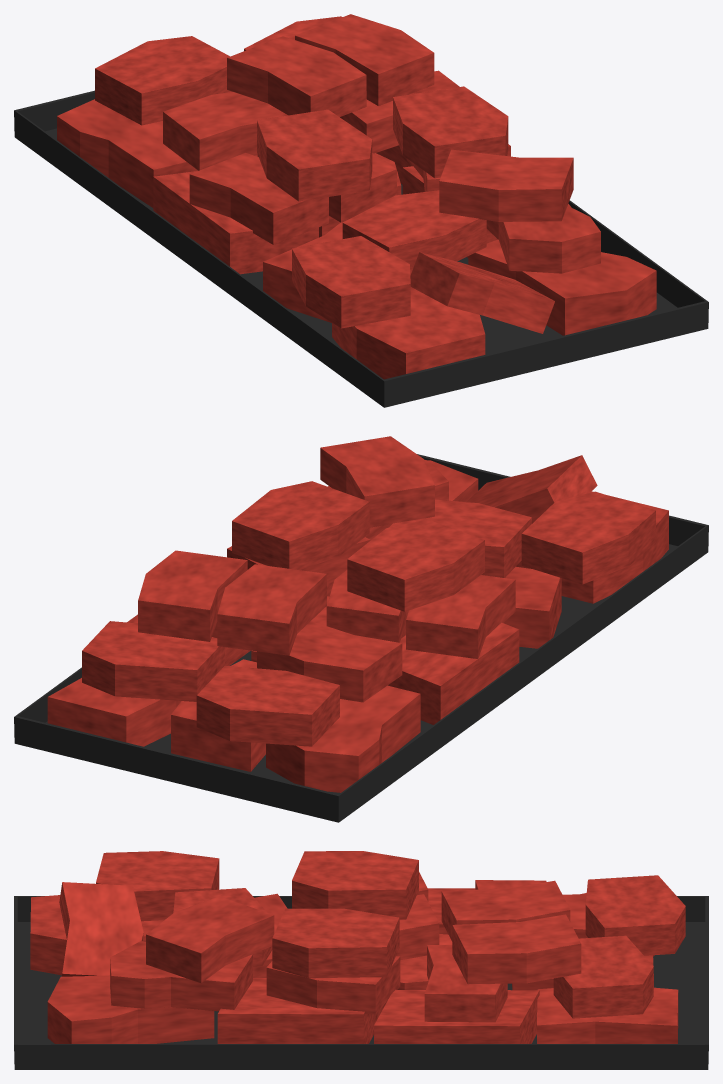
File: tray of betamax.fbx
The picture shows the model from 3 angles, top to bottom: view 1: azimuth 30°, elevation 25°; view 2: azimuth 150°, elevation 25°; view 3: azimuth 270°, elevation 25°; orthographic projection. The views are drawn at different scales.
Parts seen in each view (by area): view 1: tray.001, betamax 3.008, betamax 3.010, betamax 2.013, betamax 3.004, betamax 1.003, betamax 2.012, betamax 3.003, betamax 3.009, betamax 1.002, betamax 2.010, betamax 3.007 (+10 smaller); view 2: tray.001, betamax 3.004, betamax 3.010, betamax 3.009, betamax 3.008, betamax 1.002, betamax 3.006, betamax 2.012, betamax 2.013, betamax 2.011, betamax 2.006, betamax 4.004 (+11 smaller); view 3: tray.001, betamax 3.009, betamax 1.003, betamax 2.011, betamax 2.013, betamax 3.010, betamax 4.003, betamax 3.004, betamax 2.009, betamax 3.006, betamax 1.004, betamax 4.002 (+14 smaller).
Boxes of the visible parts, bbox=[...] form: tray.001: bbox=[14, 90, 708, 407]; betamax 3.008: bbox=[292, 236, 410, 328]; betamax 3.010: bbox=[257, 109, 372, 201]; betamax 2.013: bbox=[439, 149, 573, 221]; betamax 3.004: bbox=[95, 36, 232, 125]; betamax 1.003: bbox=[468, 239, 656, 335]; betamax 2.012: bbox=[227, 36, 366, 117]; betamax 3.003: bbox=[332, 287, 485, 379]; betamax 3.009: bbox=[393, 86, 508, 178]; betamax 1.002: bbox=[57, 99, 198, 207]; betamax 2.010: bbox=[189, 153, 328, 244]; betamax 3.007: bbox=[342, 190, 486, 274]; tray.001: bbox=[14, 454, 708, 822]; betamax 3.004: bbox=[196, 665, 339, 746]; betamax 3.010: bbox=[347, 519, 484, 611]; betamax 3.009: bbox=[232, 481, 369, 569]; betamax 3.008: bbox=[521, 491, 655, 584]; betamax 1.002: bbox=[266, 685, 420, 792]; betamax 3.006: bbox=[82, 621, 224, 701]; betamax 2.012: bbox=[217, 564, 326, 655]; betamax 2.013: bbox=[320, 436, 434, 527]; betamax 2.011: bbox=[138, 550, 247, 641]; betamax 2.006: bbox=[257, 621, 402, 702]; betamax 4.004: bbox=[388, 622, 519, 724]; tray.001: bbox=[14, 896, 708, 1069]; betamax 3.009: bbox=[272, 908, 399, 978]; betamax 1.003: bbox=[47, 975, 214, 1043]; betamax 2.011: bbox=[452, 914, 581, 984]; betamax 2.013: bbox=[146, 896, 274, 982]; betamax 3.010: bbox=[292, 851, 418, 919]; betamax 4.003: bbox=[217, 978, 383, 1043]; betamax 3.004: bbox=[585, 875, 685, 955]; betamax 2.009: bbox=[59, 882, 143, 976]; betamax 3.006: bbox=[553, 935, 653, 1018]; betamax 1.004: bbox=[110, 941, 252, 1011]; betamax 4.002: bbox=[374, 989, 539, 1043].
Bounding box in the file's own units: 98.83 × 15.97 × 50.04.
